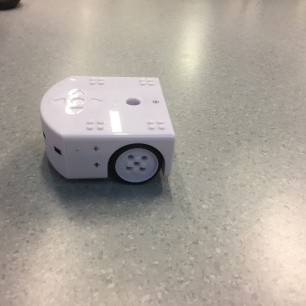thymio: (29, 70, 179, 190)
